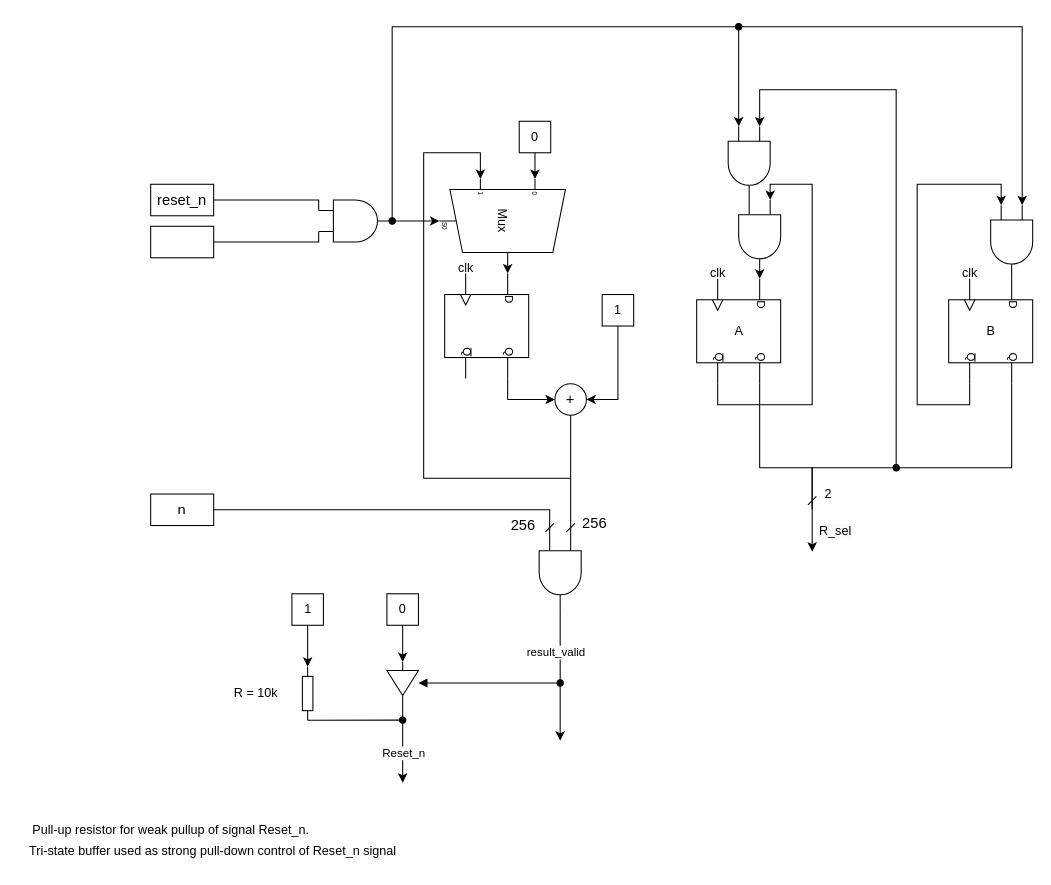
This 1051x885 diagram has some shape labels left out. The centre of each missing label's shape, as x and y in pixels:
"Counter" goes at pixel 486 325.
"EN" goes at pixel 182 241.
